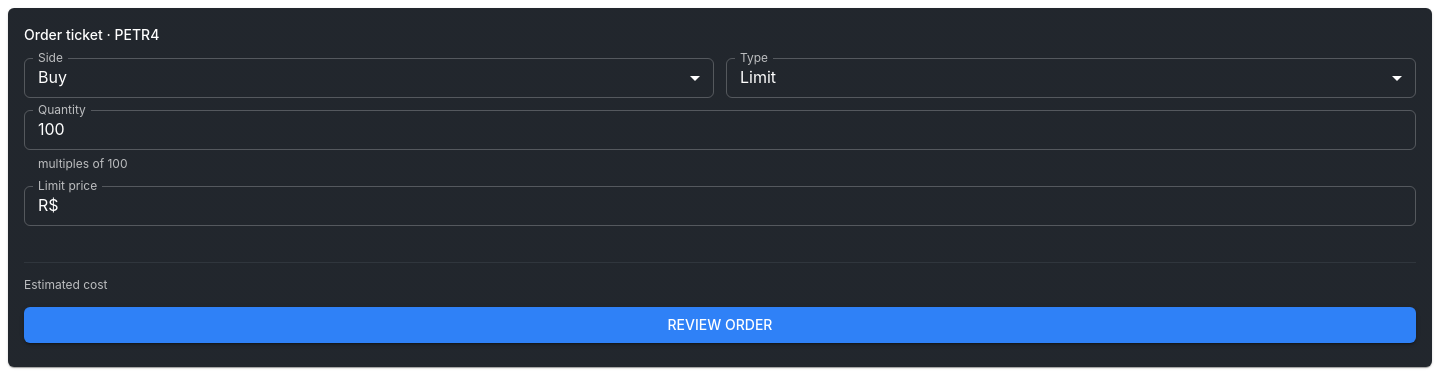
Test: confirming before sending › does not open the dialog for an invalid ticket
This screenshot has width=1440, height=386.
Click the button "Review order". click: click(720, 325)
box: [24, 307, 1416, 343]
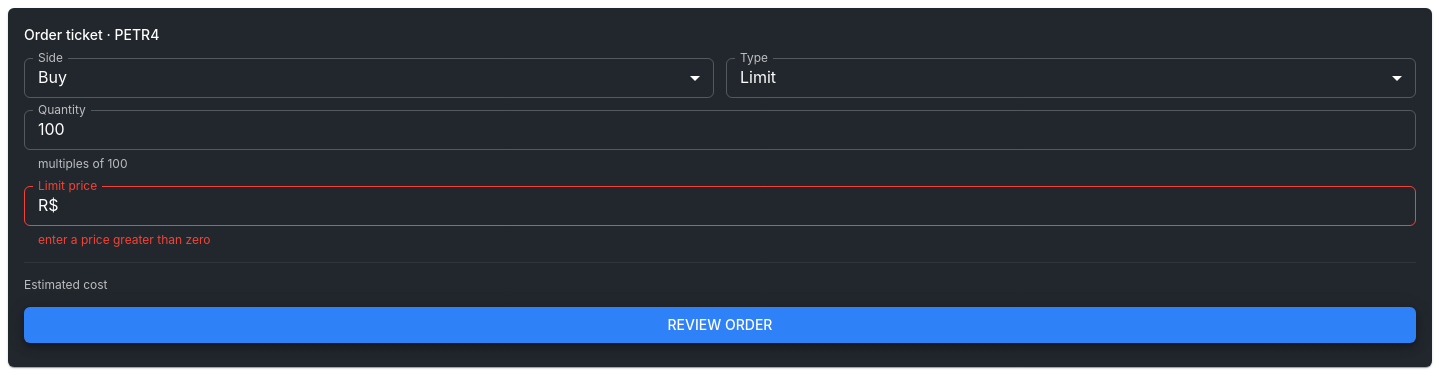
Result: the text "enter a price greater than zero" is shown at [38, 232, 210, 247]
